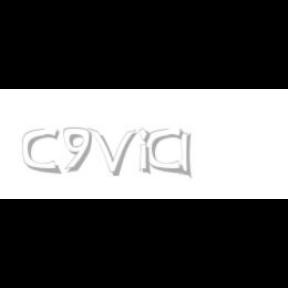9: (64, 128, 92, 172)
C: (22, 128, 60, 174), (146, 128, 183, 174)
I: (180, 128, 192, 180)
V: (89, 128, 137, 176)
i: (138, 128, 154, 176)
